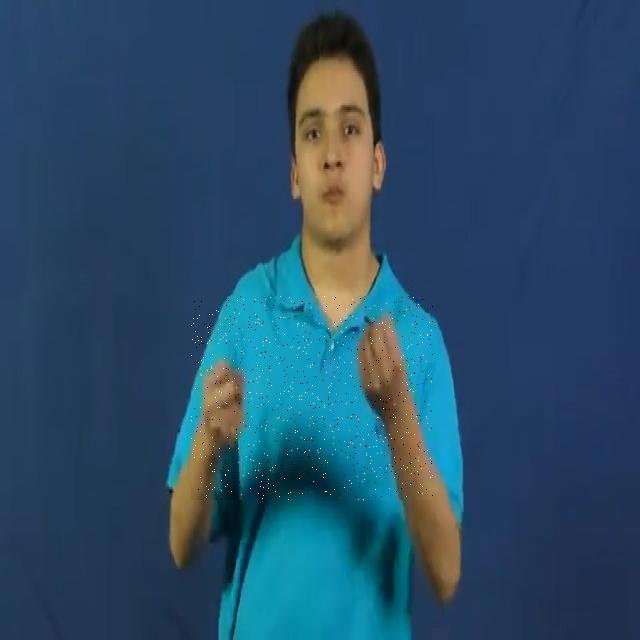drive: (192, 296, 434, 500)
